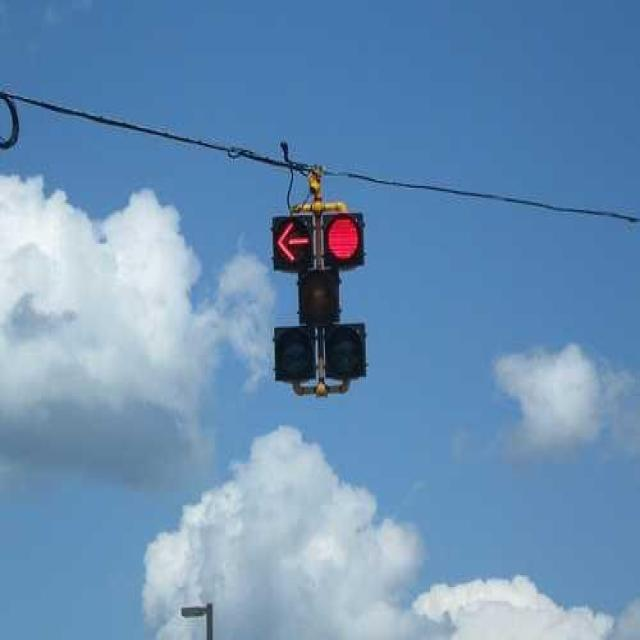Traffic Light -Red-: (258, 198, 379, 404)
